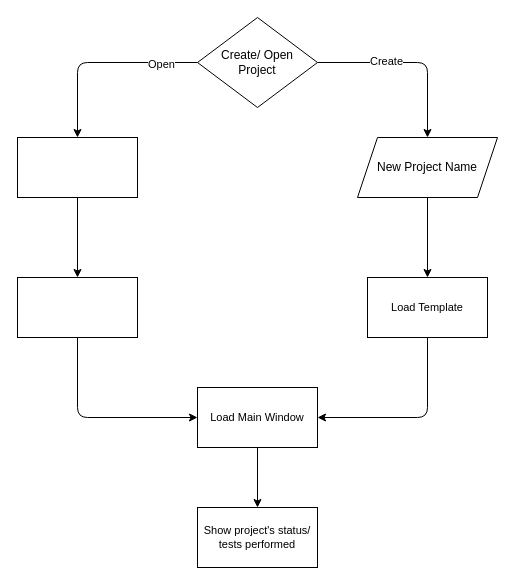
Image size: 515x585. Some labels were removed from this diagram. The centre of each missing label's shape, as x and y in pixels:
"Load Project" goes at [77,307].
"Select Existing Project" goes at [77,167].
